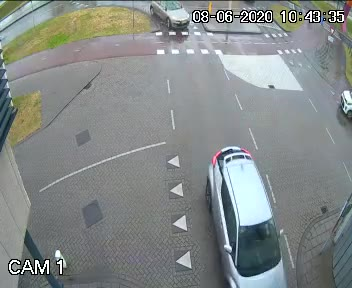car: (200, 119, 300, 288), (141, 0, 194, 43)
